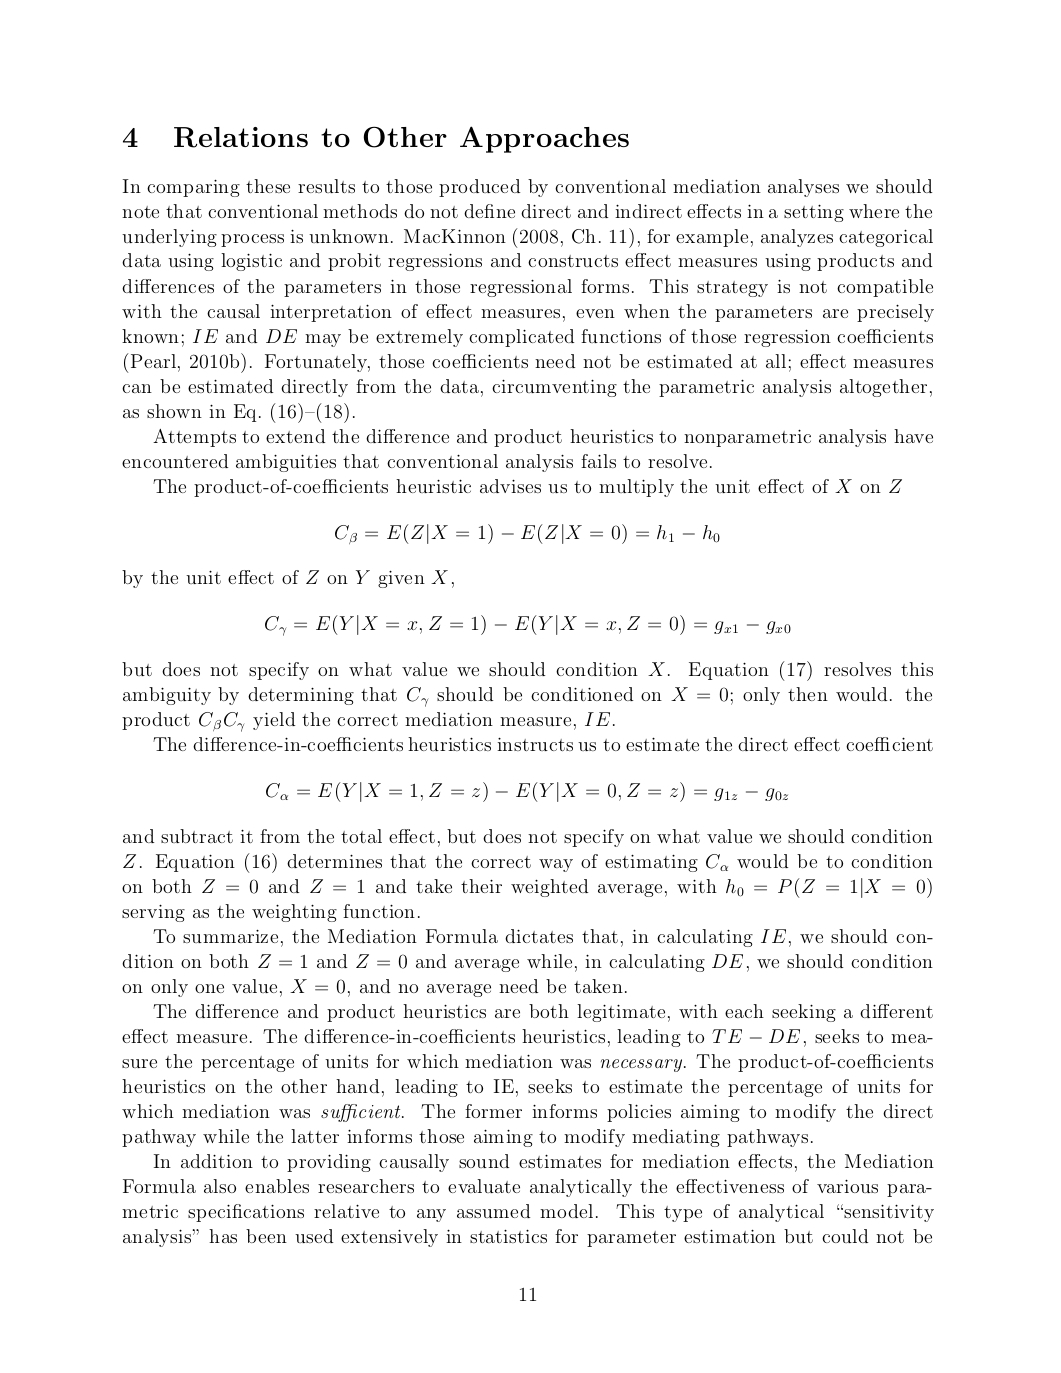formula: (265, 614, 790, 636), (266, 781, 788, 802), (335, 523, 719, 545)
